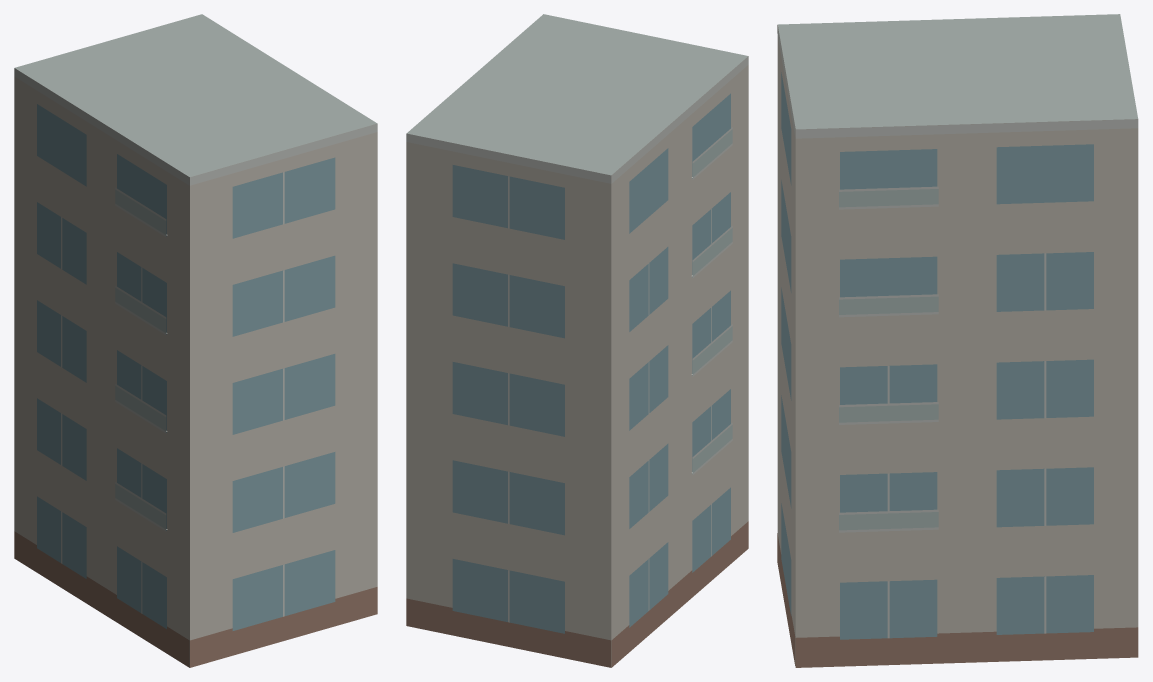
Rendered from survey-upis-32712389.glb.
3 renders of one model, left to right at view 1: azimuth 30°, elevation 25°; view 2: azimuth 150°, elevation 25°; view 3: azimuth 270°, elevation 25°, orthographic. The views are drawn at different scales.
Visible parts, largest first — view 1: survey-upis-32712389.tmp; view 2: survey-upis-32712389.tmp; view 3: survey-upis-32712389.tmp.
Part boxes in pixels (<box>): survey-upis-32712389.tmp: <box>14,14,377,667</box>; survey-upis-32712389.tmp: <box>406,14,748,667</box>; survey-upis-32712389.tmp: <box>777,14,1138,667</box>.
Size of the model in its own units: 6.54 by 14.2 by 8.63.
